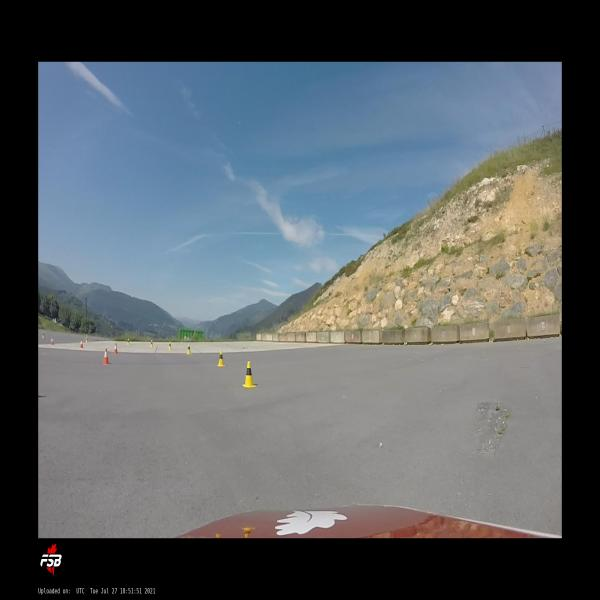orange_cone: (102, 348, 110, 364), (113, 344, 118, 354), (80, 339, 84, 348), (51, 337, 54, 346)
yellow_cone: (241, 361, 256, 387), (217, 350, 225, 366), (186, 344, 191, 354), (167, 341, 172, 350), (150, 340, 154, 348), (85, 336, 88, 344), (42, 332, 45, 338), (127, 339, 130, 345)
